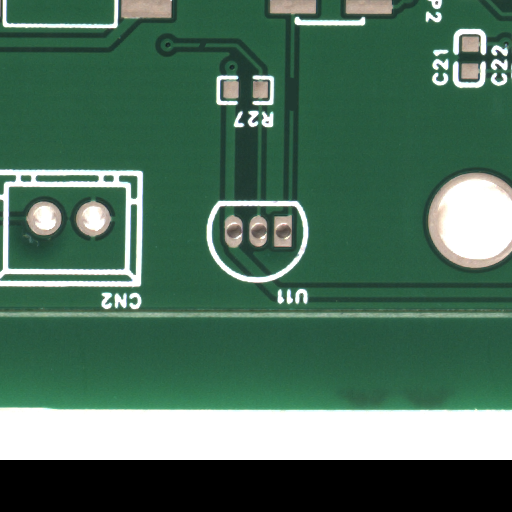Open_circuit: (290, 94, 297, 127), (203, 42, 210, 51)
